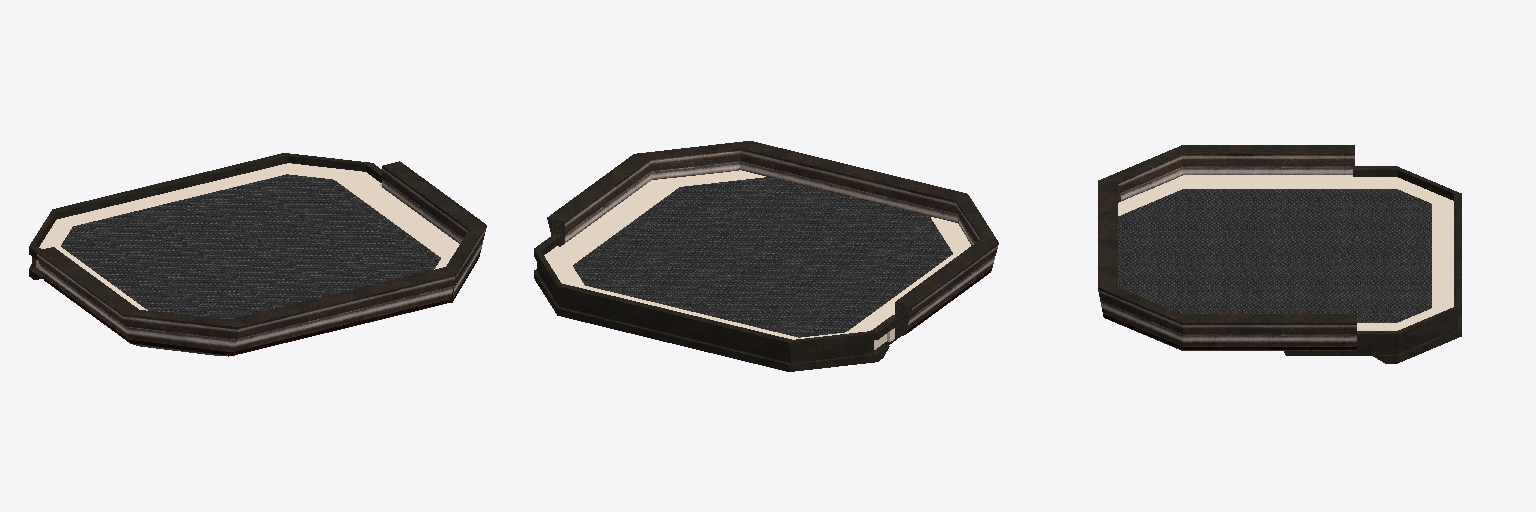
3 renders of one model, left to right at view 1: azimuth 30°, elevation 25°; view 2: azimuth 150°, elevation 25°; view 3: azimuth 270°, elevation 25°, orthographic.
Parts seen in each view (by area): view 1: entity0_brush1, entity0_brush2, entity0_brush25, entity0_brush26, entity0_brush3, entity0_brush4, entity0_brush5, entity0_brush29, entity0_brush35, entity0_brush0, entity0_brush20, entity0_brush11 (+3 smaller); view 2: entity0_brush1, entity0_brush2, entity0_brush0, entity0_brush25, entity0_brush26, entity0_brush4, entity0_brush5, entity0_brush6, entity0_brush35, entity0_brush13, entity0_brush18, entity0_brush11 (+11 smaller); view 3: entity0_brush1, entity0_brush5, entity0_brush0, entity0_brush25, entity0_brush4, entity0_brush26, entity0_brush6, entity0_brush37, entity0_brush29, entity0_brush2, entity0_brush3, entity0_brush32 (+6 smaller).
Boxes of the visible parts, x1=… form: entity0_brush1: x1=83, y1=196, x2=440, y2=315; entity0_brush2: x1=228, y1=267, x2=455, y2=356; entity0_brush25: x1=61, y1=180, x2=355, y2=262; entity0_brush26: x1=61, y1=174, x2=332, y2=245; entity0_brush3: x1=122, y1=310, x2=237, y2=355; entity0_brush4: x1=36, y1=247, x2=138, y2=342; entity0_brush5: x1=382, y1=161, x2=485, y2=243; entity0_brush29: x1=57, y1=163, x2=287, y2=225; entity0_brush35: x1=350, y1=185, x2=459, y2=257; entity0_brush0: x1=203, y1=258, x2=440, y2=318; entity0_brush20: x1=169, y1=153, x2=287, y2=190; entity0_brush11: x1=53, y1=181, x2=171, y2=218; entity0_brush1: x1=595, y1=187, x2=952, y2=315; entity0_brush2: x1=740, y1=141, x2=966, y2=225; entity0_brush0: x1=682, y1=177, x2=952, y2=253; entity0_brush25: x1=573, y1=249, x2=867, y2=331; entity0_brush26: x1=573, y1=266, x2=844, y2=337; entity0_brush4: x1=895, y1=239, x2=998, y2=337; entity0_brush5: x1=547, y1=154, x2=651, y2=245; entity0_brush6: x1=637, y1=141, x2=748, y2=179; entity0_brush35: x1=561, y1=180, x2=678, y2=253; entity0_brush13: x1=675, y1=322, x2=790, y2=362; entity0_brush18: x1=560, y1=294, x2=674, y2=334; entity0_brush11: x1=673, y1=312, x2=791, y2=349; entity0_brush1: x1=1183, y1=189, x2=1352, y2=313; entity0_brush5: x1=1183, y1=314, x2=1356, y2=350; entity0_brush0: x1=1118, y1=189, x2=1182, y2=313; entity0_brush25: x1=1353, y1=189, x2=1397, y2=322; entity0_brush4: x1=1183, y1=145, x2=1354, y2=174; entity0_brush26: x1=1398, y1=190, x2=1431, y2=321; entity0_brush6: x1=1098, y1=286, x2=1182, y2=350; entity0_brush37: x1=1183, y1=175, x2=1364, y2=188; entity0_brush29: x1=1432, y1=201, x2=1453, y2=310; entity0_brush2: x1=1098, y1=181, x2=1117, y2=286; entity0_brush3: x1=1098, y1=145, x2=1182, y2=202; entity0_brush32: x1=1118, y1=176, x2=1182, y2=215.
Size of the model in its own units: 416 by 48 by 360.
Materials: 7 (6 with a texture image).